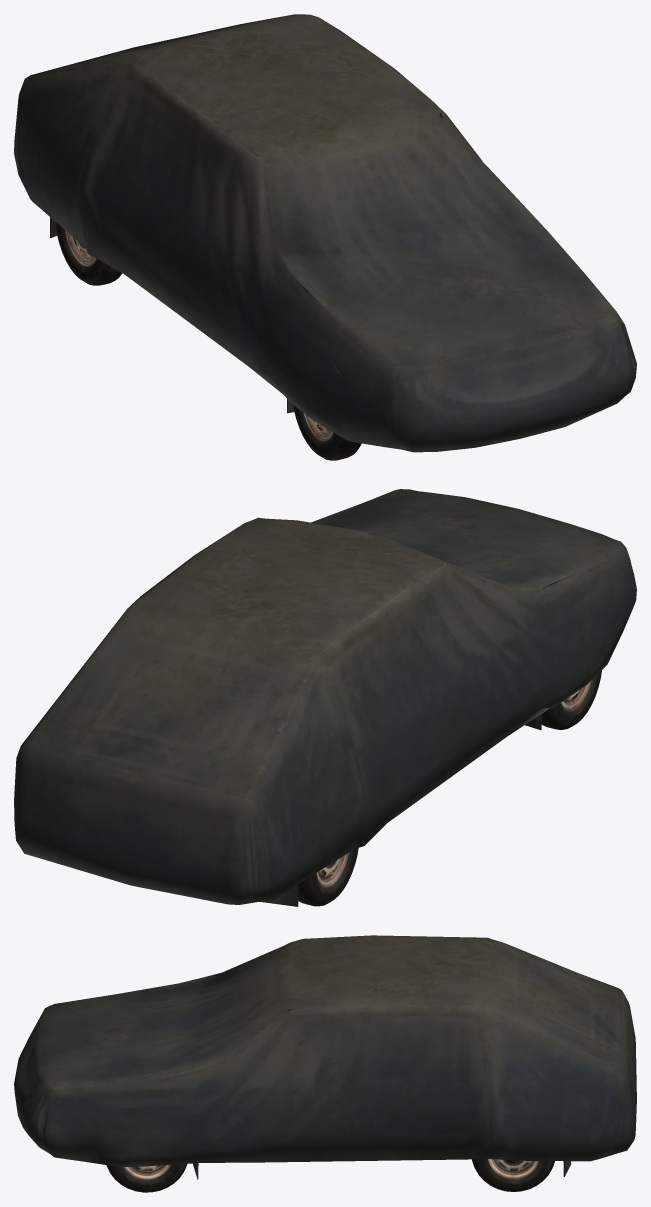
Rendered from covered_car.glb.
3 views of the same model, one above another, from view 1: azimuth 30°, elevation 25°; view 2: azimuth 150°, elevation 25°; view 3: azimuth 270°, elevation 25° (orthographic). The views are drawn at different scales.
Visible parts, largest first — view 1: covered_car, covered_car_wheel_03, covered_car_wheel_02; view 2: covered_car, covered_car_wheel_03, covered_car_wheel_02; view 3: covered_car, covered_car_wheel_04, covered_car_wheel_01.
Part boxes in pixels (left/top/right/bottom): covered_car: left=14, top=14, right=636, bottom=452; covered_car_wheel_03: left=55, top=222, right=122, bottom=285; covered_car_wheel_02: left=293, top=405, right=361, bottom=460; covered_car: left=14, top=489, right=636, bottom=906; covered_car_wheel_03: left=298, top=848, right=358, bottom=906; covered_car_wheel_02: left=541, top=670, right=601, bottom=729; covered_car: left=14, top=935, right=636, bottom=1179; covered_car_wheel_04: left=472, top=1159, right=554, bottom=1191; covered_car_wheel_01: left=106, top=1163, right=187, bottom=1192.
Size of the model in its own units: 1.79 by 1.41 by 4.38.
2 materials, 2 textured.
